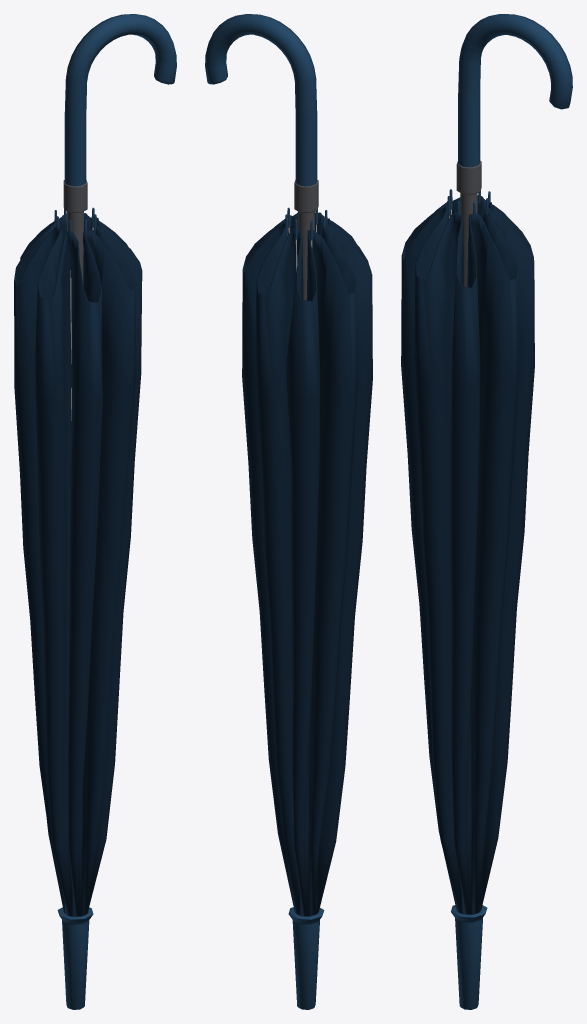
File: Umbrella.fbx
The picture shows the model from 3 angles, left to right: view 1: azimuth 30°, elevation 25°; view 2: azimuth 150°, elevation 25°; view 3: azimuth 330°, elevation 25°; orthographic projection. The views are drawn at different scales.
Visible parts, largest first — view 1: Umbrella; view 2: Umbrella; view 3: Umbrella.
Boxes of the visible parts, x1=… form: Umbrella: x1=14, y1=14, x2=176, y2=1009; Umbrella: x1=205, y1=14, x2=372, y2=1009; Umbrella: x1=401, y1=14, x2=572, y2=1009.
Size of the model in its own units: 0.1687 by 1.02 by 0.1194.
